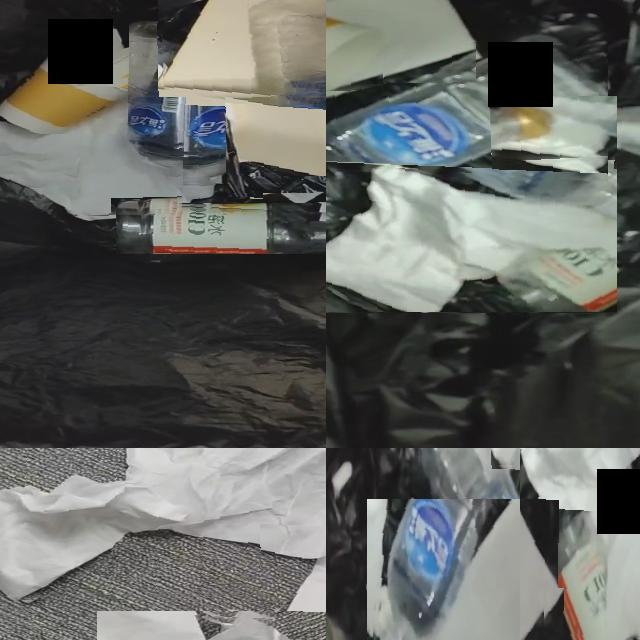bottle: (326, 42, 608, 191), (420, 448, 557, 640), (129, 23, 263, 199), (117, 206, 326, 254), (551, 510, 610, 640), (555, 106, 640, 157)
carton: (163, 0, 326, 98), (226, 74, 326, 176)
dixie_cup: (0, 53, 128, 134), (326, 18, 385, 93)
paper: (0, 448, 326, 601), (326, 167, 617, 312), (380, 499, 564, 640), (520, 448, 640, 640), (0, 97, 184, 218), (326, 0, 477, 85), (491, 96, 617, 159), (63, 24, 129, 82), (544, 588, 564, 636), (281, 186, 326, 204)
